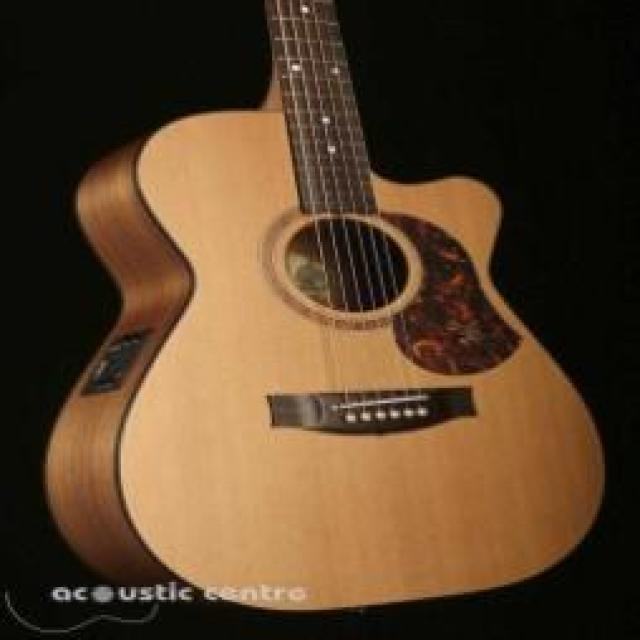acousticguitar: (43, 0, 602, 607)
